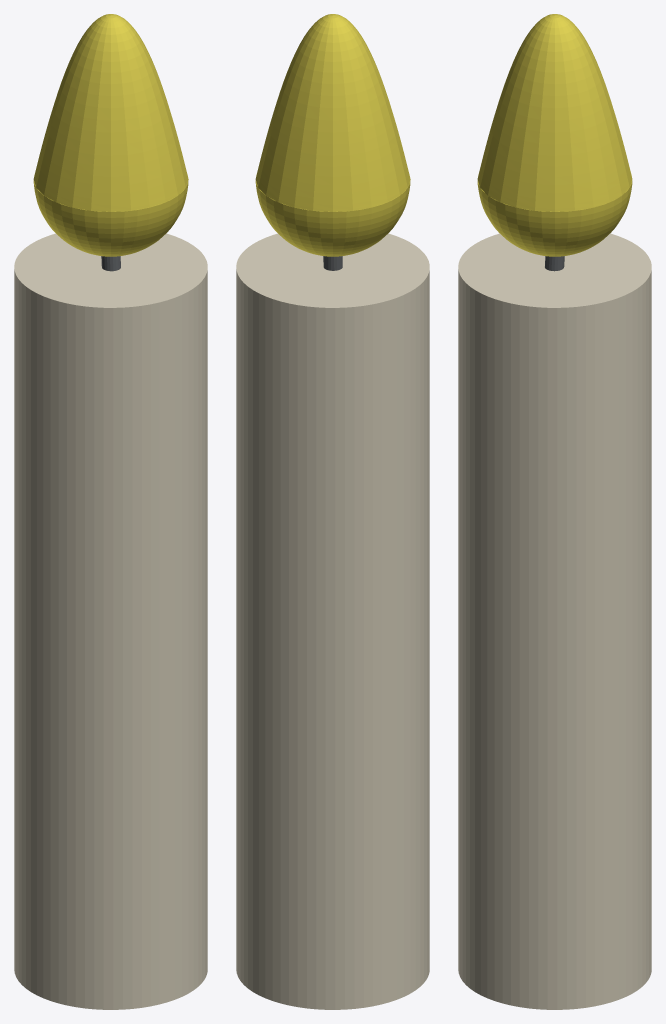
File: Vela.glb
The picture shows the model from 3 angles, left to right: view 1: azimuth 30°, elevation 25°; view 2: azimuth 150°, elevation 25°; view 3: azimuth 270°, elevation 25°; orthographic projection.
Parts seen in each view (by area): view 1: Mesh_Mesh_head_geo.001_lambert2SG.001; view 2: Mesh_Mesh_head_geo.001_lambert2SG.001; view 3: Mesh_Mesh_head_geo.001_lambert2SG.001.
Boxes of the visible parts, x1,y1,x2,y2 form: Mesh_Mesh_head_geo.001_lambert2SG.001: (14,14,207,1009); Mesh_Mesh_head_geo.001_lambert2SG.001: (236,14,429,1009); Mesh_Mesh_head_geo.001_lambert2SG.001: (458,14,651,1009).
Size of the model in its own units: 10 by 54.33 by 9.99.
